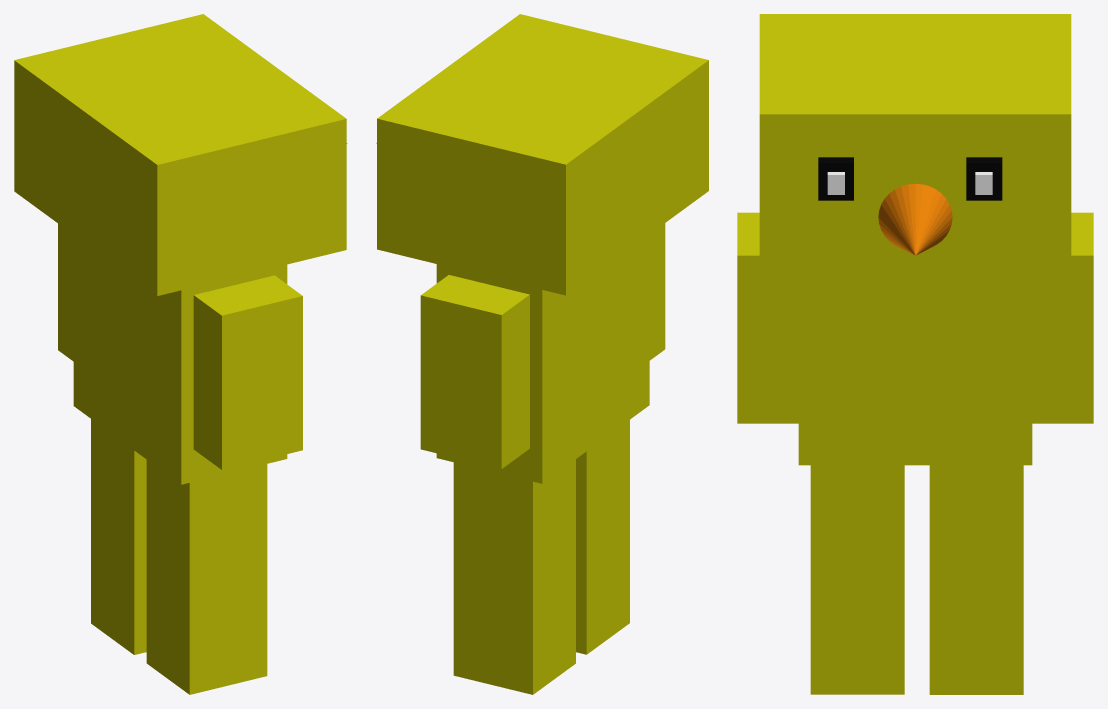
File: cheeky.glb
The picture shows the model from 3 angles, left to right: view 1: azimuth 30°, elevation 25°; view 2: azimuth 150°, elevation 25°; view 3: azimuth 270°, elevation 25°; orthographic projection. The views are drawn at different scales.
Parts seen in each view (by area): view 1: Cube.004, Cube.008, Cube.016, Cube.002, Cube.009, Cube.003; view 2: Cube.004, Cube.009, Cube.016, Cube.003, Cube.008, Cube.002; view 3: Cube.004, Cube.016, Cube.008, Cube.009, Cube.002, Cube.003.
Boxes of the visible parts, x1,y1,x2,y2 form: Cube.004: [14, 14, 347, 295]; Cube.008: [146, 460, 267, 694]; Cube.016: [73, 235, 287, 484]; Cube.002: [193, 275, 302, 469]; Cube.009: [91, 419, 146, 654]; Cube.003: [58, 223, 73, 361]; Cube.004: [376, 14, 708, 295]; Cube.009: [453, 459, 575, 694]; Cube.016: [436, 234, 649, 483]; Cube.003: [420, 275, 529, 468]; Cube.008: [576, 420, 629, 654]; Cube.002: [649, 223, 665, 360]; Cube.004: [759, 14, 1071, 256]; Cube.016: [798, 257, 1032, 465]; Cube.008: [810, 465, 904, 694]; Cube.009: [929, 465, 1023, 694]; Cube.002: [737, 212, 798, 423]; Cube.003: [1032, 212, 1093, 423].
Size of the model in its own units: 7.23 by 14.78 by 7.83.
